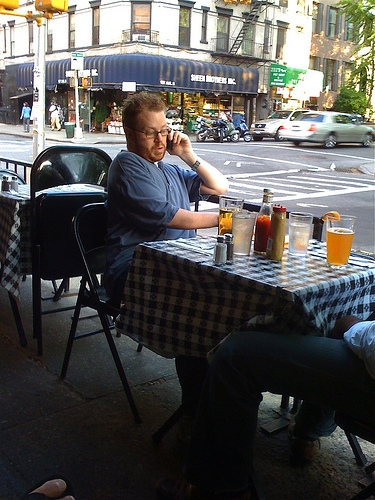phone: (167, 123, 183, 167)
